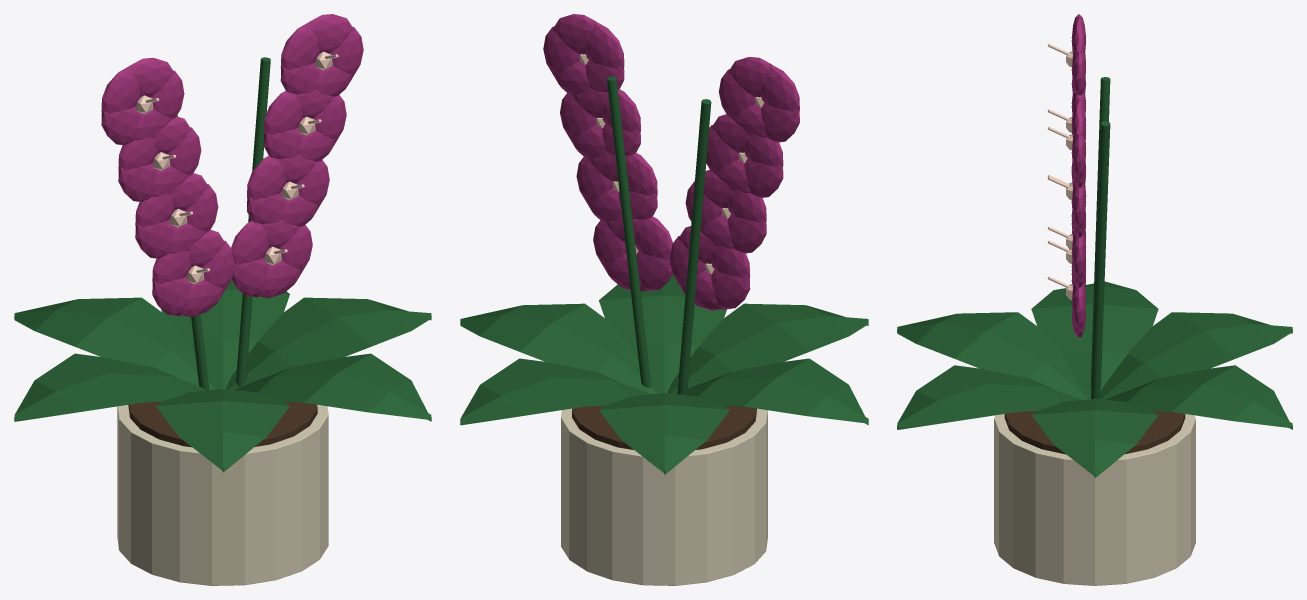
3 views of the same model, side by side, from view 1: azimuth 30°, elevation 25°; view 2: azimuth 150°, elevation 25°; view 3: azimuth 270°, elevation 25° (orthographic). The views are drawn at different scales.
Visible parts, largest first — view 1: ORCHID_Pot, ORCHID_Leaf_0, ORCHID_Leaf_2, ORCHID_Leaf_5, ORCHID_Leaf_3, ORCHID_Leaf_4, ORCHID_Leaf_1, ORCHID_Soil, ORCHID_Stem.001, ORCHID_Bloom_Petal.017, ORCHID_Bloom_Petal.037, ORCHID_Bloom_Petal.027 (+38 smaller); view 2: ORCHID_Pot, ORCHID_Leaf_0, ORCHID_Leaf_4, ORCHID_Leaf_1, ORCHID_Leaf_3, ORCHID_Leaf_2, ORCHID_Leaf_5, ORCHID_Stem.001, ORCHID_Stem, ORCHID_Soil, ORCHID_Bloom_Petal.037, ORCHID_Bloom_Petal.017 (+37 smaller); view 3: ORCHID_Pot, ORCHID_Leaf_2, ORCHID_Leaf_4, ORCHID_Leaf_3, ORCHID_Leaf_5, ORCHID_Leaf_1, ORCHID_Leaf_0, ORCHID_Stem.001, ORCHID_Soil, ORCHID_Stem, ORCHID_Bloom_Petal.035, ORCHID_Bloom_Petal.015 (+3 smaller).
Part boxes in pixels (x1=…): ORCHID_Pot: x1=117, y1=404, x2=328, y2=585; ORCHID_Leaf_0: x1=225, y1=297, x2=431, y2=389; ORCHID_Leaf_2: x1=14, y1=297, x2=216, y2=389; ORCHID_Leaf_5: x1=234, y1=353, x2=431, y2=421; ORCHID_Leaf_3: x1=14, y1=353, x2=210, y2=421; ORCHID_Leaf_4: x1=156, y1=389, x2=289, y2=472; ORCHID_Leaf_1: x1=161, y1=280, x2=289, y2=389; ORCHID_Soil: x1=128, y1=401, x2=317, y2=447; ORCHID_Stem.001: x1=236, y1=57, x2=270, y2=386; ORCHID_Bloom_Petal.017: x1=101, y1=66, x2=140, y2=113; ORCHID_Bloom_Petal.037: x1=280, y1=22, x2=319, y2=69; ORCHID_Bloom_Petal.027: x1=247, y1=156, x2=286, y2=199; ORCHID_Pot: x1=561, y1=408, x2=767, y2=585; ORCHID_Leaf_0: x1=460, y1=303, x2=658, y2=394; ORCHID_Leaf_4: x1=667, y1=303, x2=868, y2=393; ORCHID_Leaf_1: x1=460, y1=358, x2=651, y2=425; ORCHID_Leaf_3: x1=675, y1=358, x2=868, y2=425; ORCHID_Leaf_2: x1=599, y1=393, x2=729, y2=474; ORCHID_Leaf_5: x1=599, y1=274, x2=726, y2=393; ORCHID_Stem.001: x1=606, y1=76, x2=651, y2=387; ORCHID_Stem: x1=677, y1=99, x2=711, y2=394; ORCHID_Soil: x1=572, y1=405, x2=756, y2=449; ORCHID_Bloom_Petal.037: x1=585, y1=22, x2=624, y2=68; ORCHID_Bloom_Petal.017: x1=761, y1=65, x2=799, y2=111; ORCHID_Pot: x1=994, y1=414, x2=1195, y2=585; ORCHID_Leaf_2: x1=1100, y1=312, x2=1292, y2=399; ORCHID_Leaf_4: x1=897, y1=312, x2=1088, y2=399; ORCHID_Leaf_3: x1=1031, y1=281, x2=1158, y2=399; ORCHID_Leaf_5: x1=897, y1=365, x2=1082, y2=429; ORCHID_Leaf_1: x1=1105, y1=365, x2=1292, y2=429; ORCHID_Leaf_0: x1=1031, y1=399, x2=1158, y2=477; ORCHID_Stem.001: x1=1091, y1=121, x2=1110, y2=399; ORCHID_Soil: x1=1004, y1=411, x2=1185, y2=454; ORCHID_Stem: x1=1090, y1=77, x2=1110, y2=386; ORCHID_Bloom_Petal.035: x1=1071, y1=133, x2=1085, y2=179; ORCHID_Bloom_Petal.015: x1=1071, y1=50, x2=1085, y2=95.
Size of the model in its own units: 0.86 by 1.01 by 0.7458.
